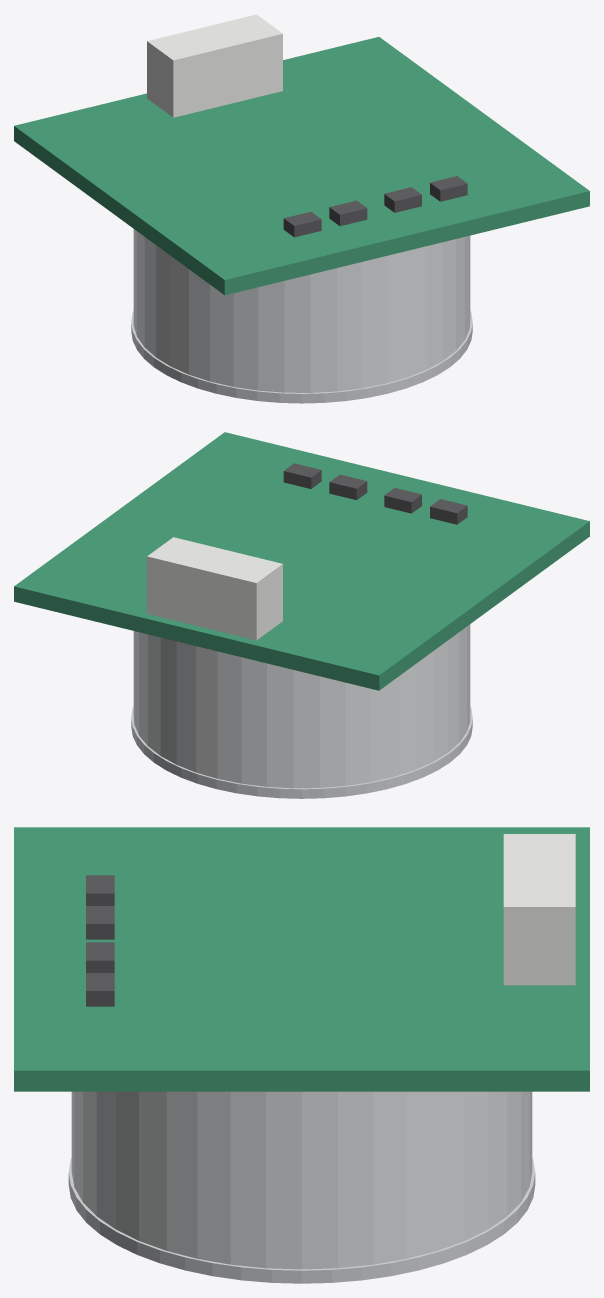
The model's file is co_b4_isb.glb.
3 views of the same model, one above another, from view 1: azimuth 30°, elevation 25°; view 2: azimuth 150°, elevation 25°; view 3: azimuth 270°, elevation 25° (orthographic). The views are drawn at different scales.
Visible parts, largest first — view 1: co_b4_isb_1_pcb_green, co_b4_isb_7_co_body, co_b4_isb_6_white, co_b4_isb_8_steel, co_b4_isb_2_chip, co_b4_isb_3_chip, co_b4_isb_5_chip, co_b4_isb_4_chip; view 2: co_b4_isb_1_pcb_green, co_b4_isb_7_co_body, co_b4_isb_6_white, co_b4_isb_8_steel, co_b4_isb_4_chip, co_b4_isb_5_chip, co_b4_isb_2_chip, co_b4_isb_3_chip; view 3: co_b4_isb_1_pcb_green, co_b4_isb_7_co_body, co_b4_isb_6_white, co_b4_isb_8_steel, co_b4_isb_3_chip, co_b4_isb_5_chip, co_b4_isb_2_chip, co_b4_isb_4_chip.
Part boxes in pixels (<box>): co_b4_isb_1_pcb_green: <box>14,37,589,295</box>; co_b4_isb_7_co_body: <box>133,229,470,392</box>; co_b4_isb_6_white: <box>147,14,282,117</box>; co_b4_isb_8_steel: <box>131,311,472,403</box>; co_b4_isb_2_chip: <box>283,211,321,237</box>; co_b4_isb_3_chip: <box>329,200,367,226</box>; co_b4_isb_5_chip: <box>430,176,467,201</box>; co_b4_isb_4_chip: <box>384,187,421,212</box>; co_b4_isb_1_pcb_green: <box>14,432,589,690</box>; co_b4_isb_7_co_body: <box>133,624,470,788</box>; co_b4_isb_6_white: <box>147,537,282,640</box>; co_b4_isb_8_steel: <box>131,706,472,798</box>; co_b4_isb_4_chip: <box>329,474,367,500</box>; co_b4_isb_5_chip: <box>283,463,321,488</box>; co_b4_isb_2_chip: <box>430,499,467,524</box>; co_b4_isb_3_chip: <box>384,488,421,513</box>; co_b4_isb_1_pcb_green: <box>14,827,589,1091</box>; co_b4_isb_7_co_body: <box>71,1091,532,1269</box>; co_b4_isb_6_white: <box>503,834,575,985</box>; co_b4_isb_8_steel: <box>68,1158,535,1283</box>; co_b4_isb_3_chip: <box>86,906,114,939</box>; co_b4_isb_5_chip: <box>86,973,114,1006</box>; co_b4_isb_2_chip: <box>86,875,114,905</box>; co_b4_isb_4_chip: <box>86,942,114,972</box>.
Bounding box in the file's own units: 40 × 24.8 × 40.
